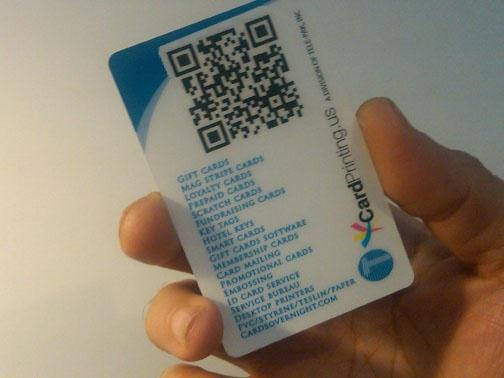Finder pattern: (164, 41, 202, 76), (241, 14, 280, 48), (195, 121, 232, 152)
